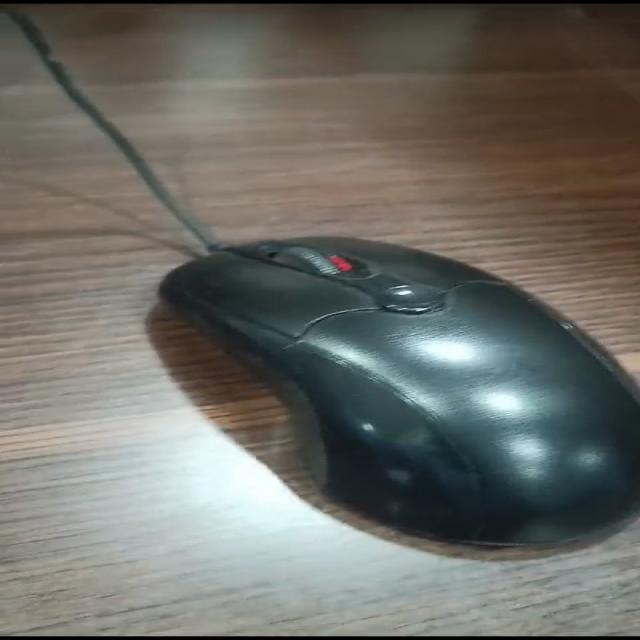Mouse: (112, 203, 640, 576)
